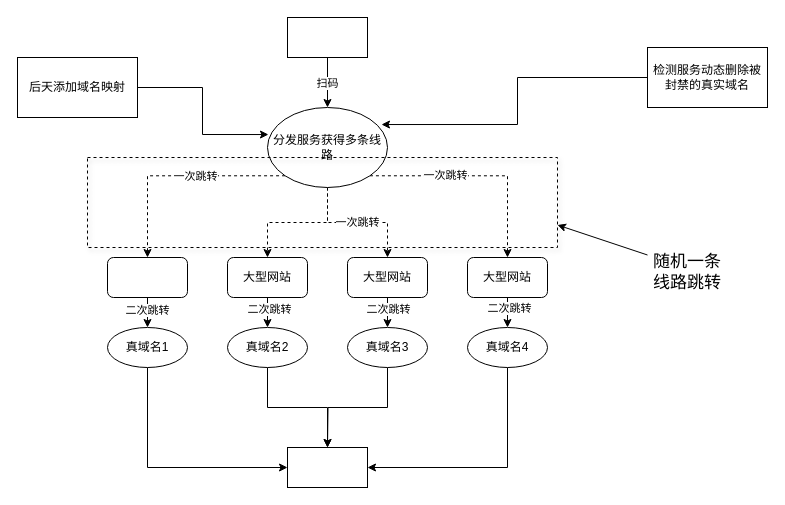
This 785x505 diagram has some shape labels left out. Here are the shapes that lost their labels. From the top down, the centre of each, then its label:
the point at 327,37: 二维码
the point at 147,277: 大型网站如：百度、腾讯
the point at 327,467: 天马云
